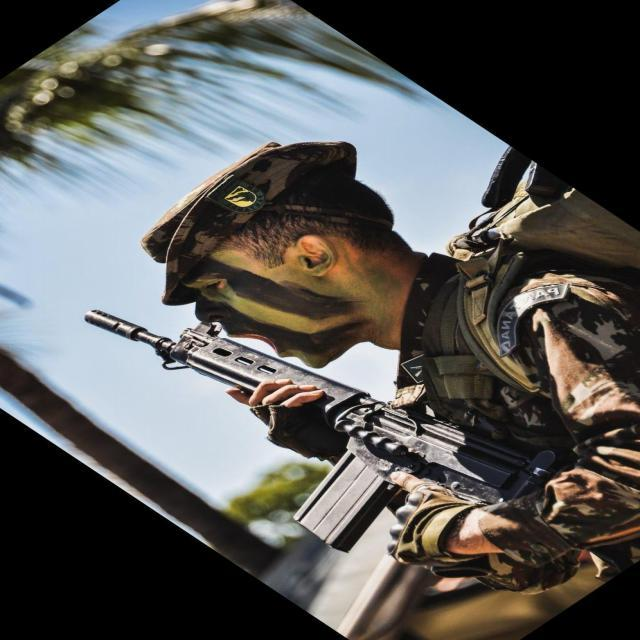weapon: (84, 306, 579, 557)
